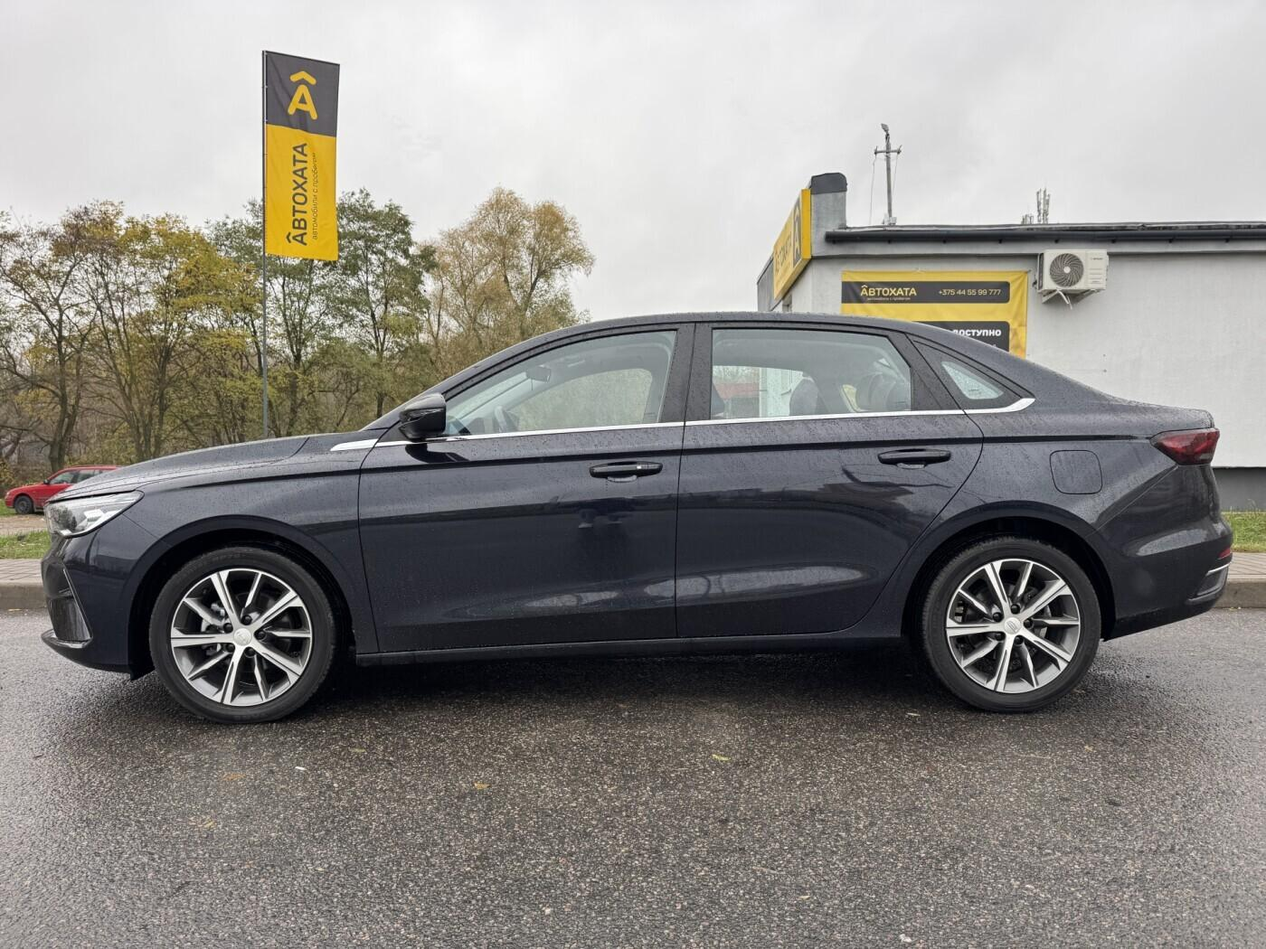Emgrand_2021: (32, 302, 1234, 719)
